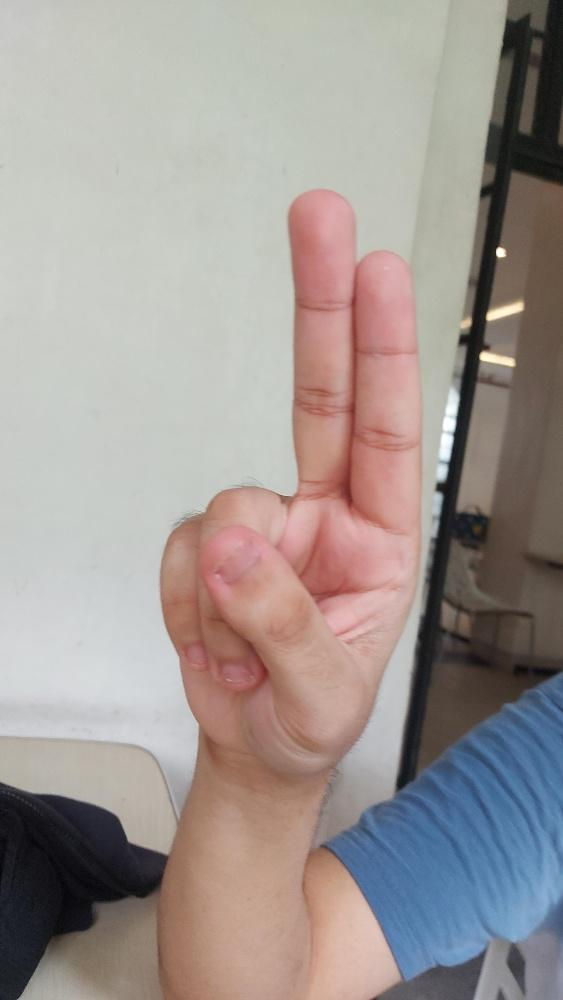u: (158, 187, 422, 776)
